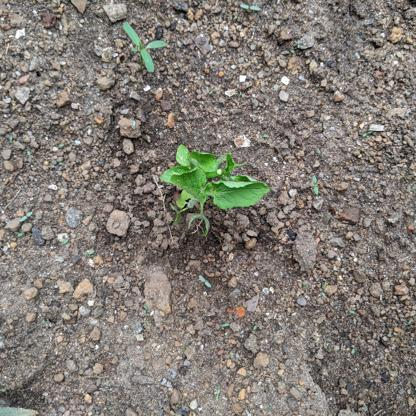weed: (160, 141, 269, 234), (120, 19, 167, 77)
